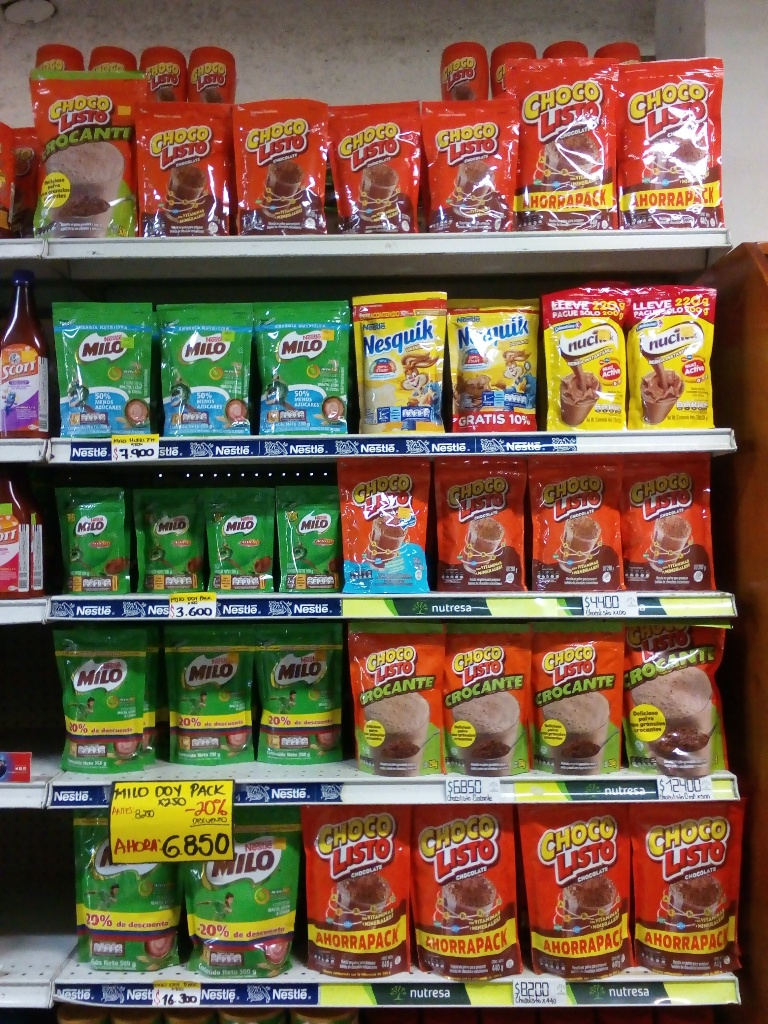COL0170102DYP25000: (27, 74, 148, 238)
COL0170102DYP50000: (626, 617, 734, 774)
COL0170103DYP20000: (427, 100, 516, 227)
COL0170103DYP40000: (624, 59, 727, 231)
COL0170103DYP44000: (625, 798, 746, 976)
COL0170103TRR30000: (484, 38, 527, 91)
COL0170104DYP20000: (339, 455, 428, 590)
COL0170203DYP10000: (277, 488, 340, 592)
COL0170203DYP25000: (263, 625, 350, 760)
COL0170203DYP50000: (185, 811, 300, 981)
COL0170205DYP20000: (253, 298, 347, 438)
